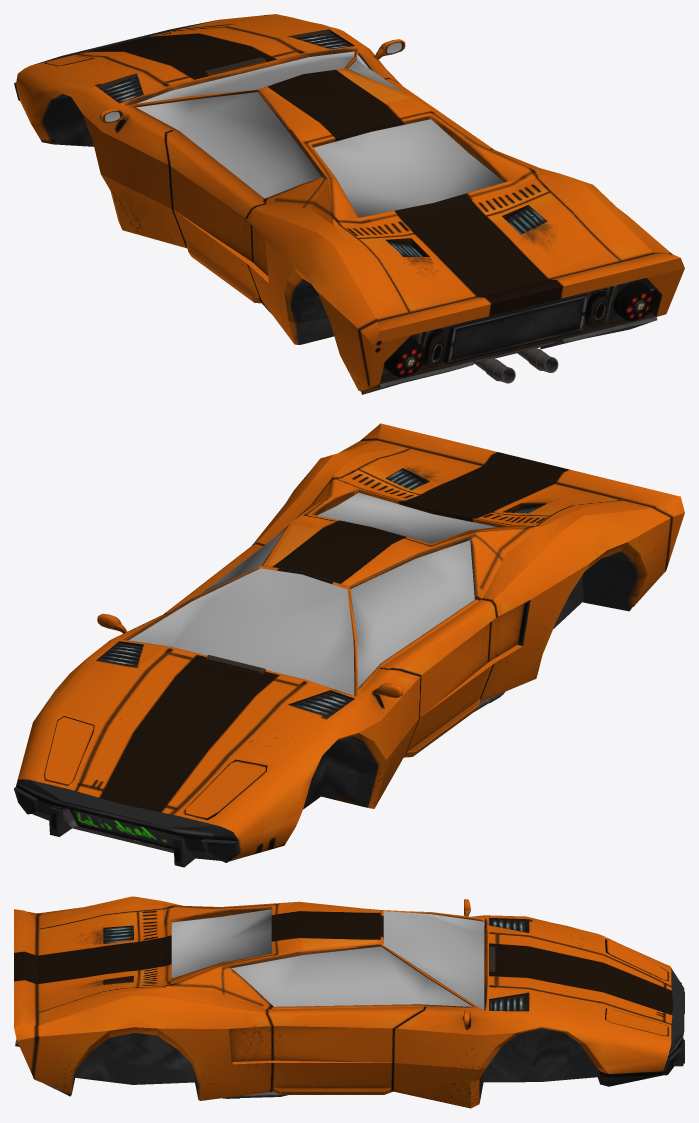
The model's file is Car.fbx.
3 renders of one model, top to bottom at view 1: azimuth 30°, elevation 25°; view 2: azimuth 150°, elevation 25°; view 3: azimuth 270°, elevation 25°, orthographic. The views are drawn at different scales.
Visible parts, largest first — view 1: polySurface25; view 2: polySurface25; view 3: polySurface25.
Boxes of the visible parts, left/top/right/bottom form: polySurface25: left=14, top=14, right=684, bottom=394; polySurface25: left=14, top=423, right=684, bottom=867; polySurface25: left=14, top=896, right=684, bottom=1108.
Size of the model in its own units: 2.28 by 1.2 by 5.24.
